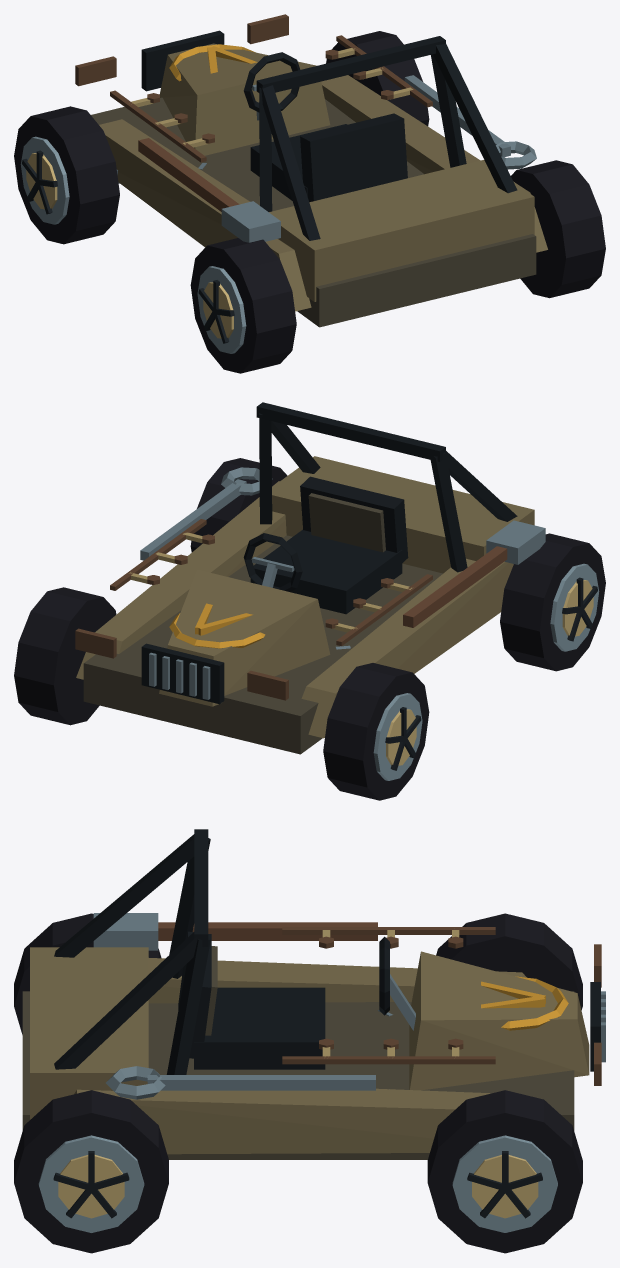
The model's file is kart.glb.
3 views of the same model, one above another, from view 1: azimuth 30°, elevation 25°; view 2: azimuth 150°, elevation 25°; view 3: azimuth 270°, elevation 25° (orthographic). The views are drawn at different scales.
Visible parts, largest first — view 1: identity-buggy-buggy-offroad-frame, wheel-front-left, wheel-rear-left, identity-buggy-driver-cockpit, wheel-rear-right, identity-buggy-motif-tools, identity-buggy-motif-circuit, wheel-front-right, identity-buggy-motif-lambda; view 2: identity-buggy-buggy-offroad-frame, identity-buggy-driver-cockpit, wheel-front-left, wheel-rear-left, wheel-front-right, identity-buggy-motif-tools, identity-buggy-motif-circuit, wheel-rear-right, identity-buggy-motif-lambda; view 3: identity-buggy-buggy-offroad-frame, wheel-front-right, wheel-rear-right, identity-buggy-driver-cockpit, identity-buggy-motif-tools, wheel-front-left, identity-buggy-motif-circuit, wheel-rear-left, identity-buggy-motif-lambda.
Part boxes in pixels (<box>): identity-buggy-buggy-offroad-frame: <box>75,14,547,327</box>; wheel-front-left: <box>14,106,119,244</box>; wheel-rear-left: <box>190,238,296,373</box>; identity-buggy-driver-cockpit: <box>243,52,407,202</box>; wheel-rear-right: <box>511,160,605,298</box>; identity-buggy-motif-tools: <box>138,75,536,242</box>; identity-buggy-motif-circuit: <box>110,35,432,162</box>; wheel-front-right: <box>326,31,429,126</box>; identity-buggy-motif-lambda: <box>169,44,257,81</box>; identity-buggy-buggy-offroad-frame: <box>75,402,534,754</box>; identity-buggy-driver-cockpit: <box>243,476,408,614</box>; wheel-front-left: <box>323,663,429,800</box>; wheel-rear-left: <box>500,533,605,671</box>; wheel-front-right: <box>14,587,116,725</box>; identity-buggy-motif-tools: <box>140,467,545,627</box>; identity-buggy-motif-circuit: <box>110,519,432,646</box>; wheel-rear-right: <box>190,458,287,552</box>; identity-buggy-motif-lambda: <box>169,603,265,648</box>; identity-buggy-buggy-offroad-frame: <box>22,829,605,1159</box>; wheel-front-right: <box>427,1090,582,1253</box>; wheel-rear-right: <box>14,1090,168,1253</box>; identity-buggy-driver-cockpit: <box>178,931,415,1069</box>; identity-buggy-motif-tools: <box>93,913,377,1099</box>; wheel-front-left: <box>436,913,582,1010</box>; identity-buggy-motif-circuit: <box>282,927,495,1064</box>; wheel-rear-left: <box>14,913,161,1034</box>; identity-buggy-motif-lambda: <box>481,976,568,1030</box>.
Size of the model in its own units: 2.31 by 1.39 by 2.75.
